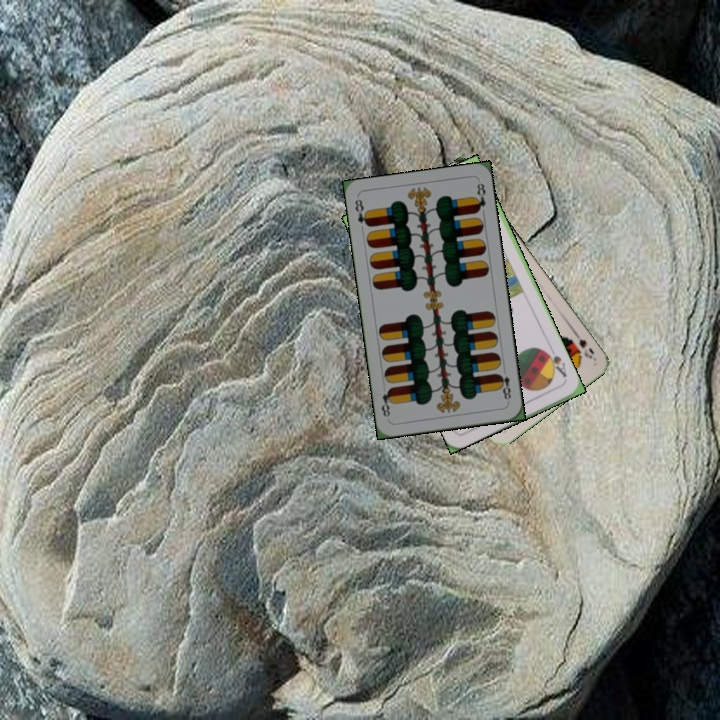E8: (494, 364, 513, 405), (351, 195, 372, 229)
SA: (541, 347, 569, 383)
SO: (568, 326, 597, 361)
